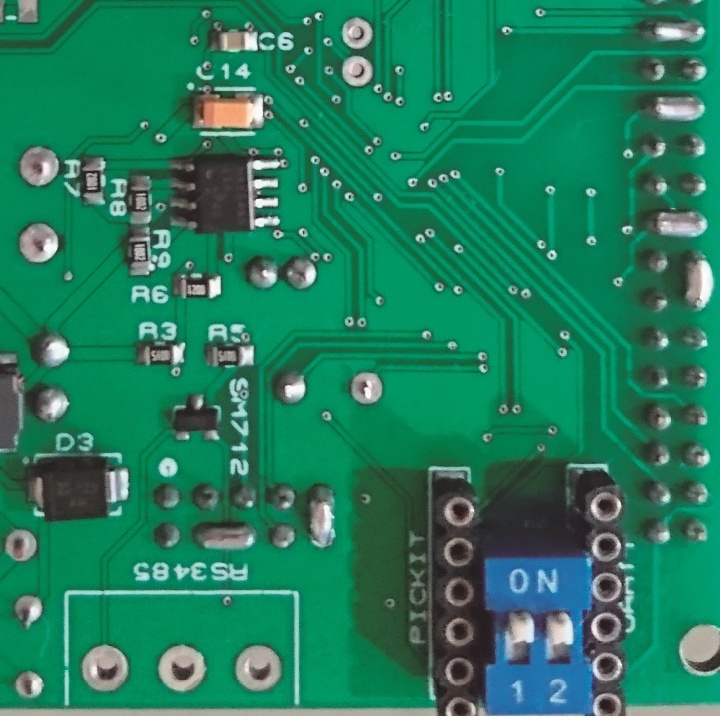F: (155, 642, 210, 698), (230, 641, 285, 694), (79, 642, 133, 695), (16, 144, 62, 189), (15, 222, 61, 267), (347, 366, 387, 409), (337, 14, 376, 51), (2, 528, 41, 563), (10, 592, 44, 632), (338, 52, 374, 89), (12, 668, 47, 702)
P: (636, 91, 710, 126), (304, 480, 339, 554), (637, 14, 709, 49), (681, 244, 716, 315), (189, 520, 260, 555), (640, 206, 712, 240)
